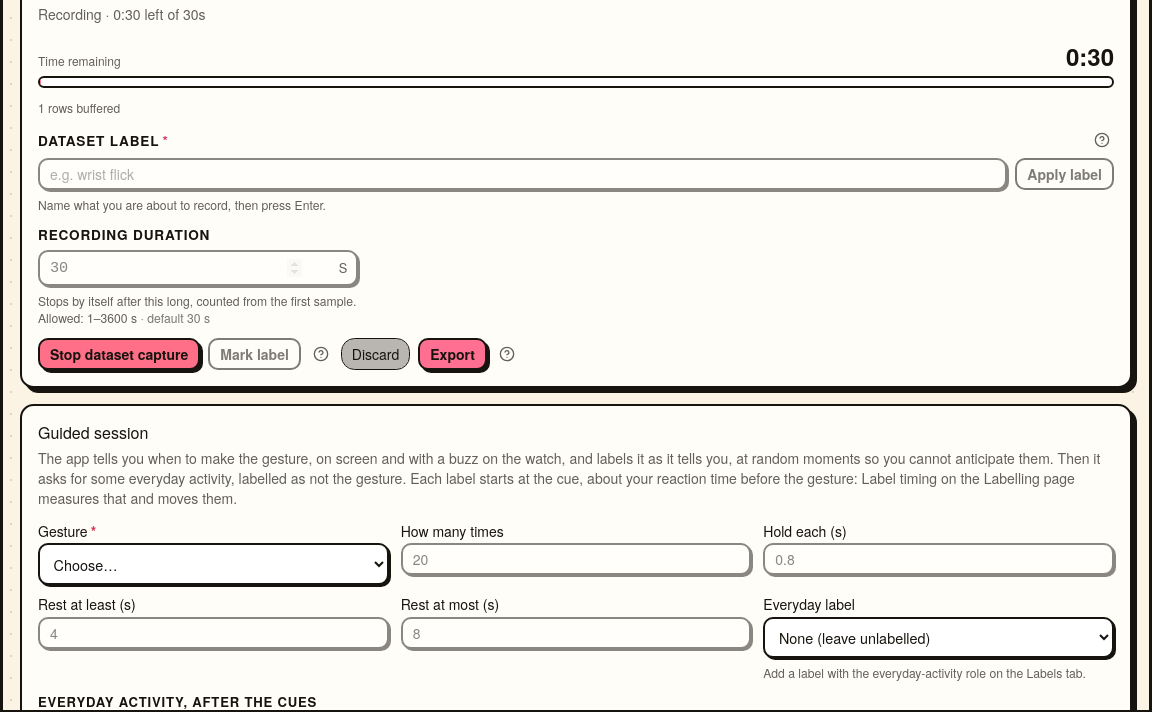
Test: Live telemetry › exports the dataset as a folder of two files, and reports a failed one via toast
The width and height of the screenshot is (1152, 712).
(page scrolled)
Click the button "Export" at (453, 354), box x1=418 y1=338 x2=487 y2=370
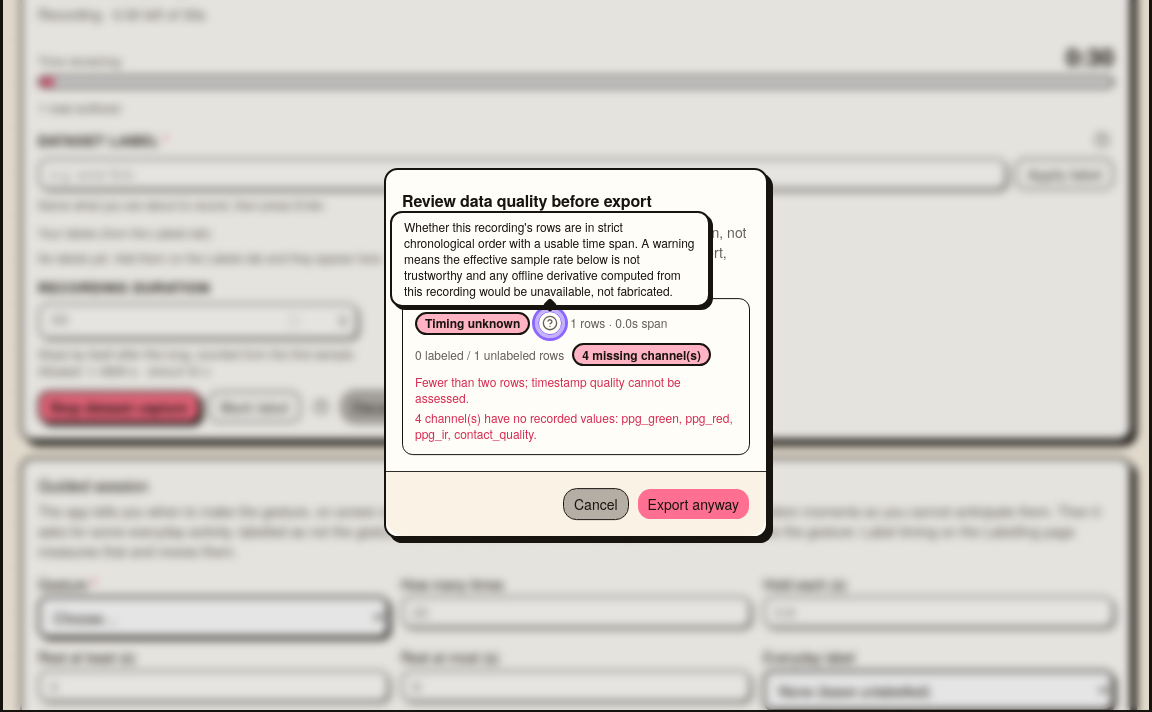
Click the button "Export anyway" at (693, 504), box x1=637 y1=488 x2=750 y2=520
(page scrolled)
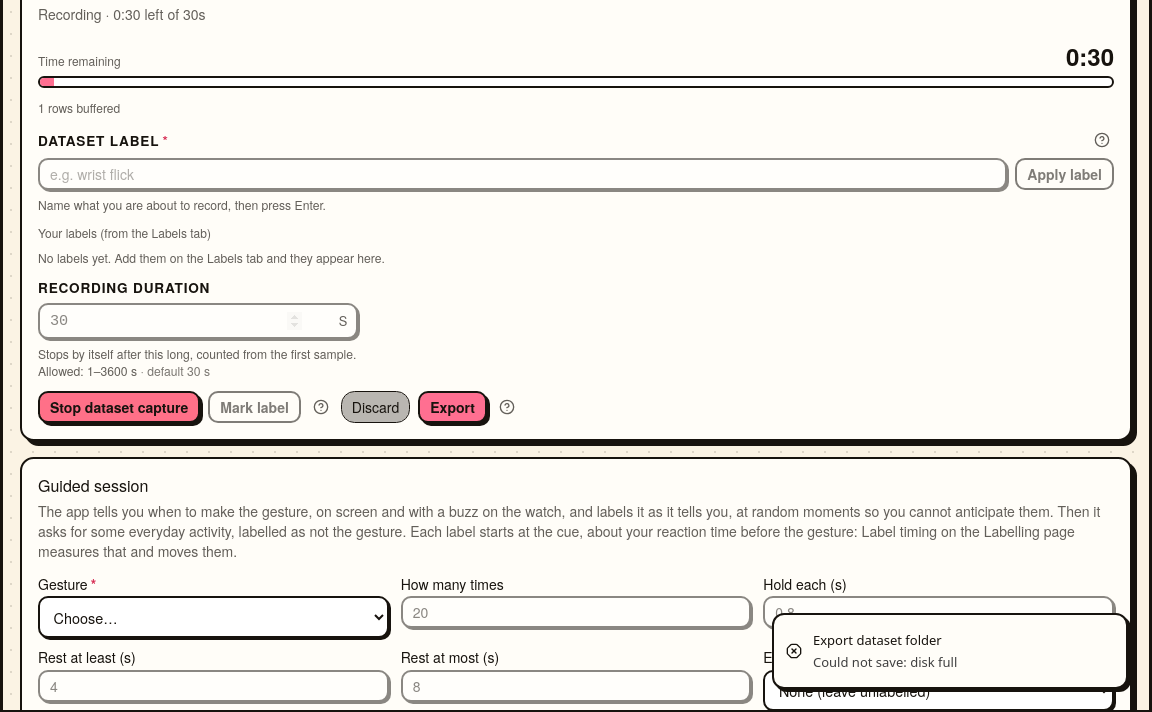
Expected: the text "Could not save: disk full" is shown, x1=813 y1=653 x2=957 y2=671
